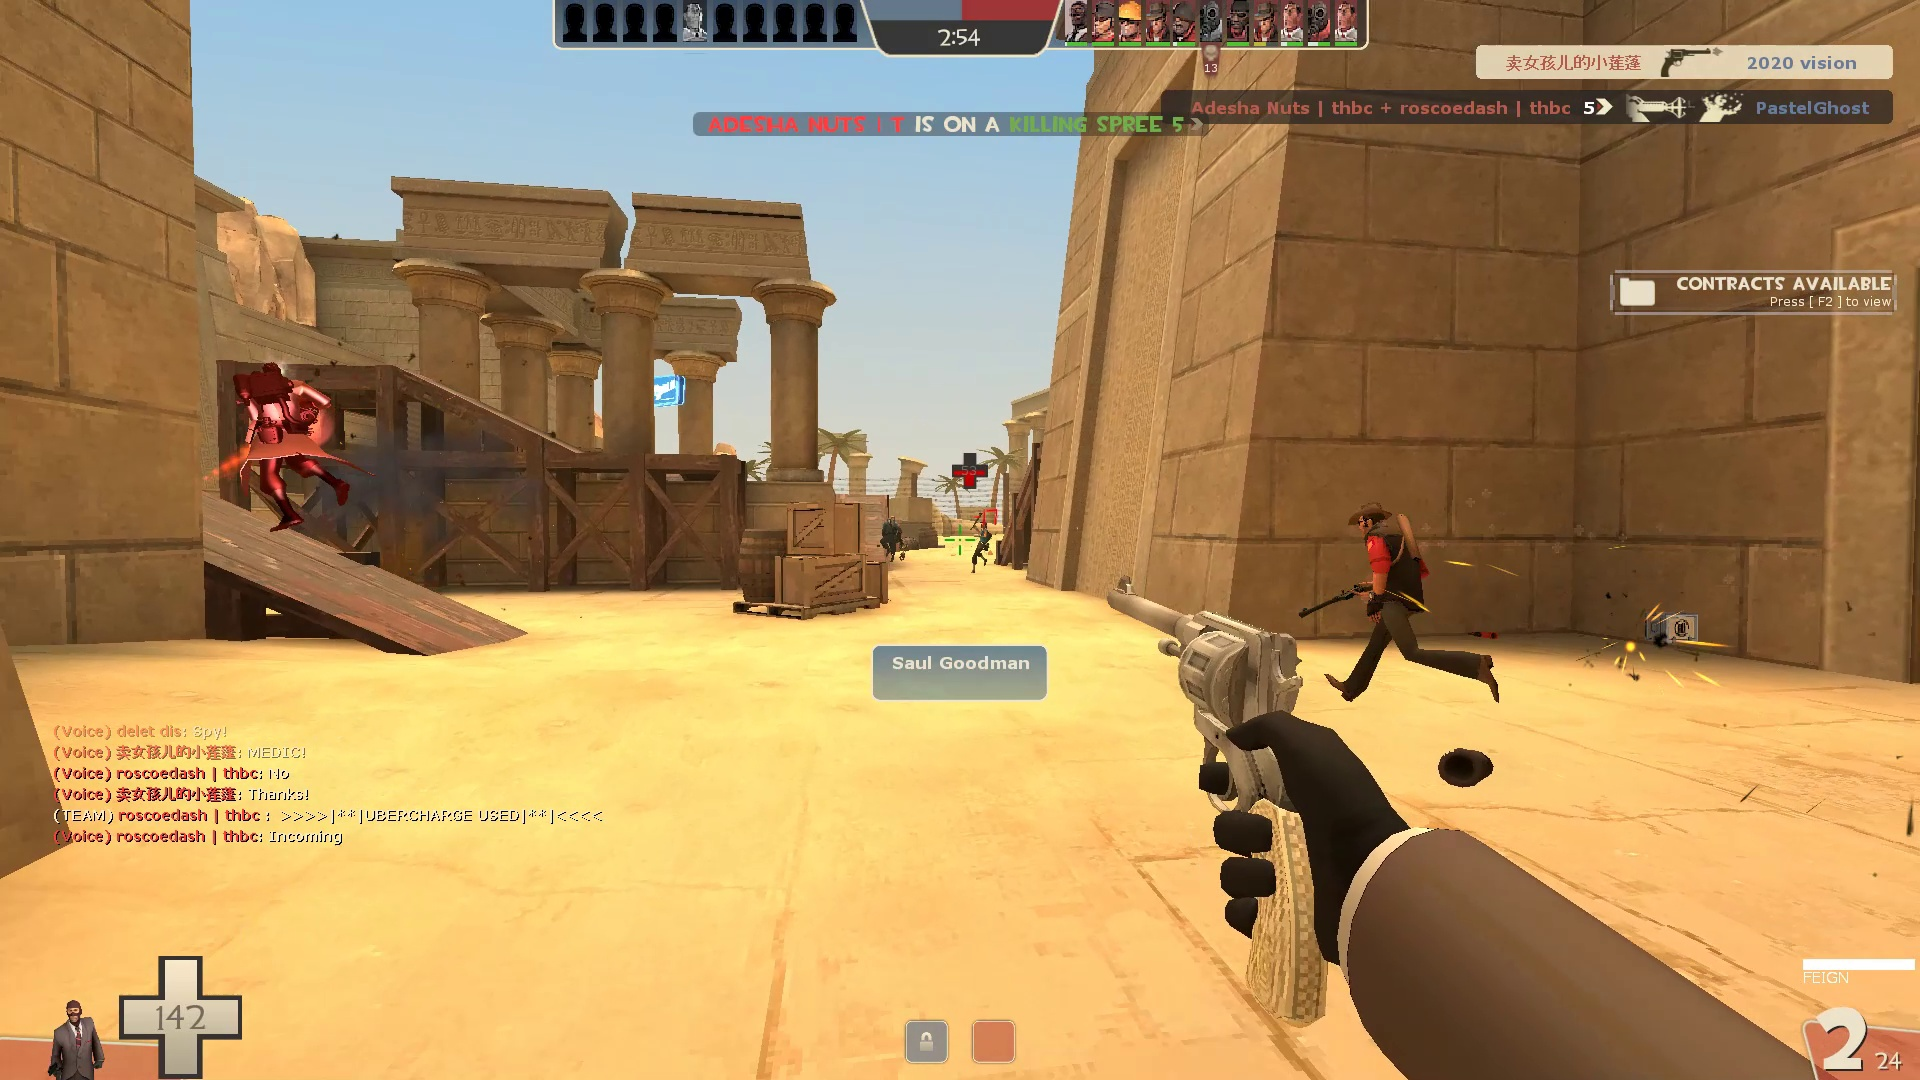blu_pyro: (872, 513, 913, 568)
blu_scout: (967, 514, 1000, 578)
red_medic_uber: (208, 345, 375, 545)
red_sniper: (1298, 495, 1509, 717)
